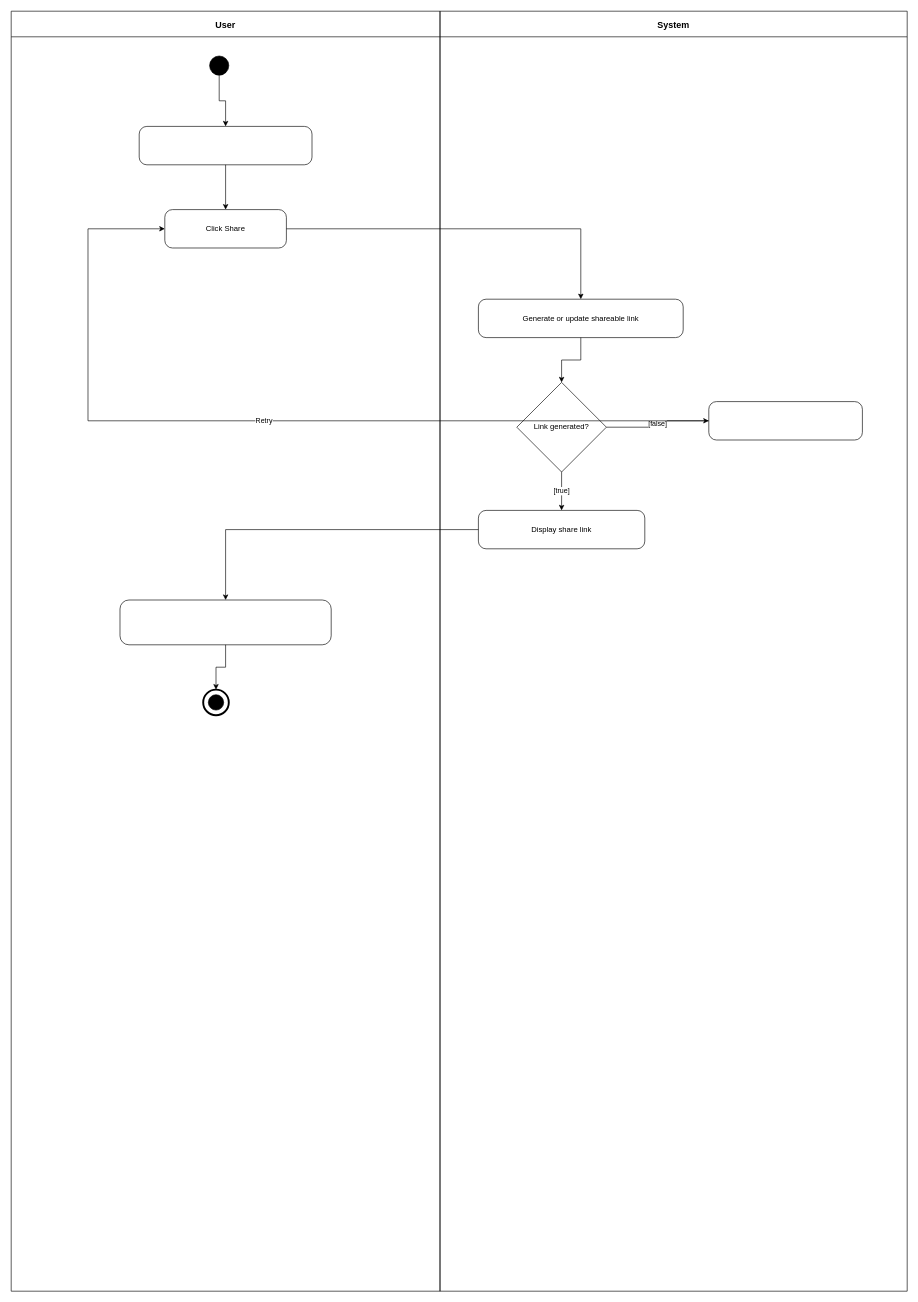
Image size: 918x1302. Some labels were removed from this diagram. Here are the shapes that lost their labels. From the top down, the centre of each, then its label:
At point (225, 145): "Open generated mini-course".
At point (785, 420): "Display error message".
At point (225, 622): "Copy link and share with students".
